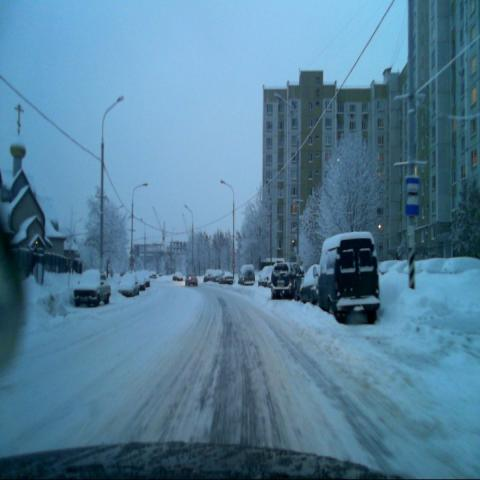5_16: (405, 175, 420, 217)
